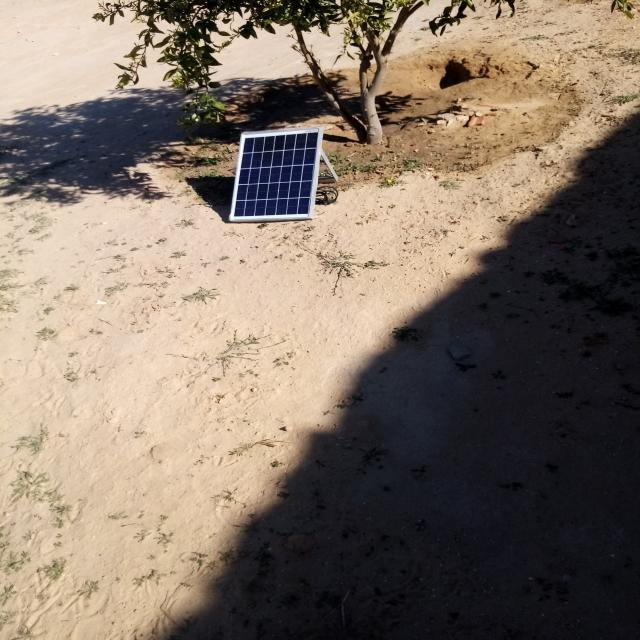no faulty: (230, 128, 322, 221)
